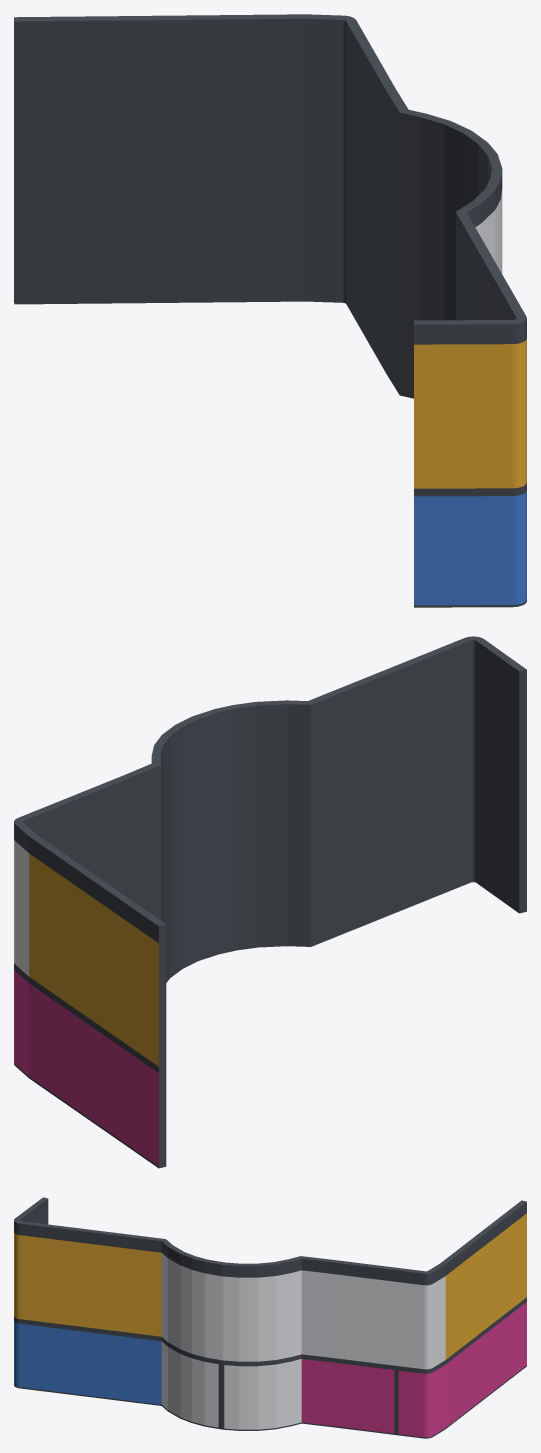
The model's file is nyc-marriott-marquis-screen.glb.
3 views of the same model, one above another, from view 1: azimuth 30°, elevation 25°; view 2: azimuth 150°, elevation 25°; view 3: azimuth 270°, elevation 25° (orthographic). The views are drawn at different scales.
Parts seen in each view (by area): view 1: New York Marriott Marquis Screen; view 2: New York Marriott Marquis Screen; view 3: New York Marriott Marquis Screen.
Boxes of the visible parts, x1,y1,x2,y2 form: New York Marriott Marquis Screen: [14, 14, 526, 607]; New York Marriott Marquis Screen: [14, 636, 526, 1168]; New York Marriott Marquis Screen: [14, 1197, 526, 1438].
Size of the model in its own units: 25.59 by 25.7 by 72.49.
